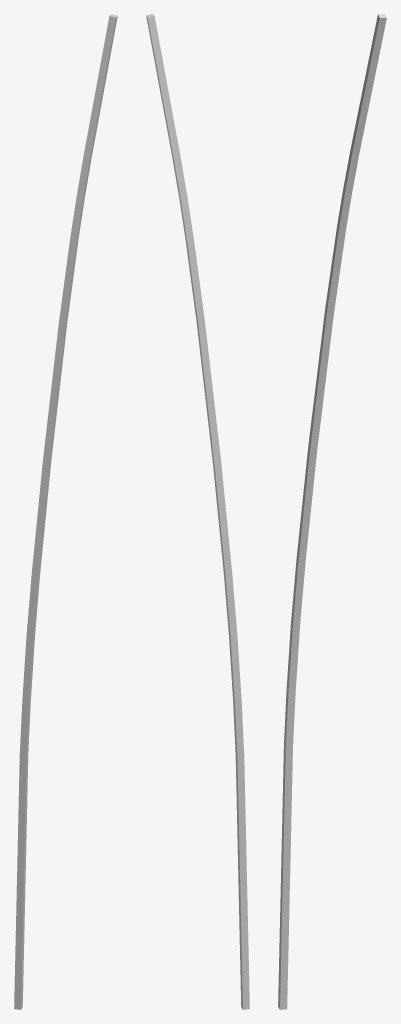
Rendered from Fishline.fbx.
3 views of the same model, side by side, from view 1: azimuth 30°, elevation 25°; view 2: azimuth 150°, elevation 25°; view 3: azimuth 330°, elevation 25° (orthographic). The views are drawn at different scales.
Visible parts, largest first — view 1: root; view 2: root; view 3: root.
Part boxes in pixels (x1=…): root: x1=14, y1=14, x2=117, y2=1009; root: x1=146, y1=14, x2=249, y2=1009; root: x1=278, y1=14, x2=386, y2=1009.
Bounding box in the file's own units: 0.1195 × 1.07 × 0.01.
1 material, 1 textured.
